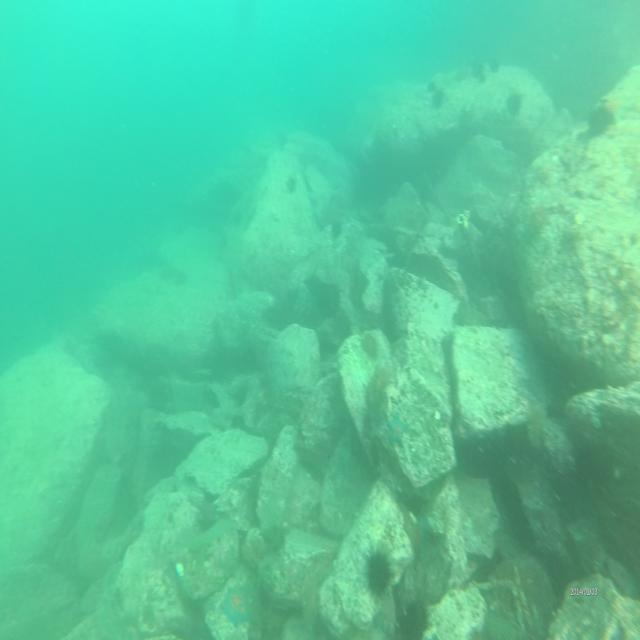echinus: (364, 544, 393, 595), (524, 406, 550, 448), (365, 367, 391, 408), (588, 103, 612, 141), (358, 330, 382, 361), (506, 90, 523, 114), (430, 89, 446, 109)
starfish: (217, 580, 255, 627), (408, 512, 431, 553), (386, 414, 407, 446), (610, 92, 630, 120)
